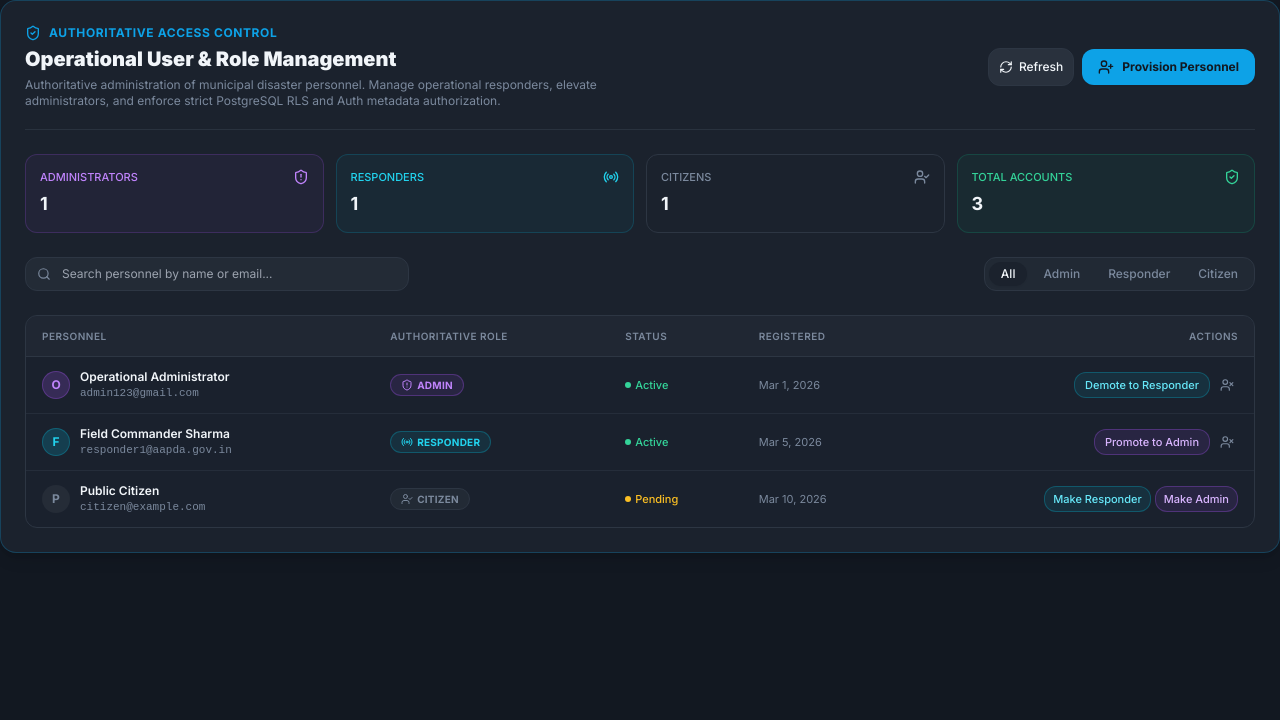
Test: OperationalUserManagement Component › User Listing & Distinction › filters users by search query and role filter chips
Expected: the text "Field Commander Sharma" is shown, left=80, top=426, right=230, bottom=442
Search by email
Type "responder1" into the field with test id "search-user-input" at (217, 274), box left=25, top=256, right=409, bottom=290
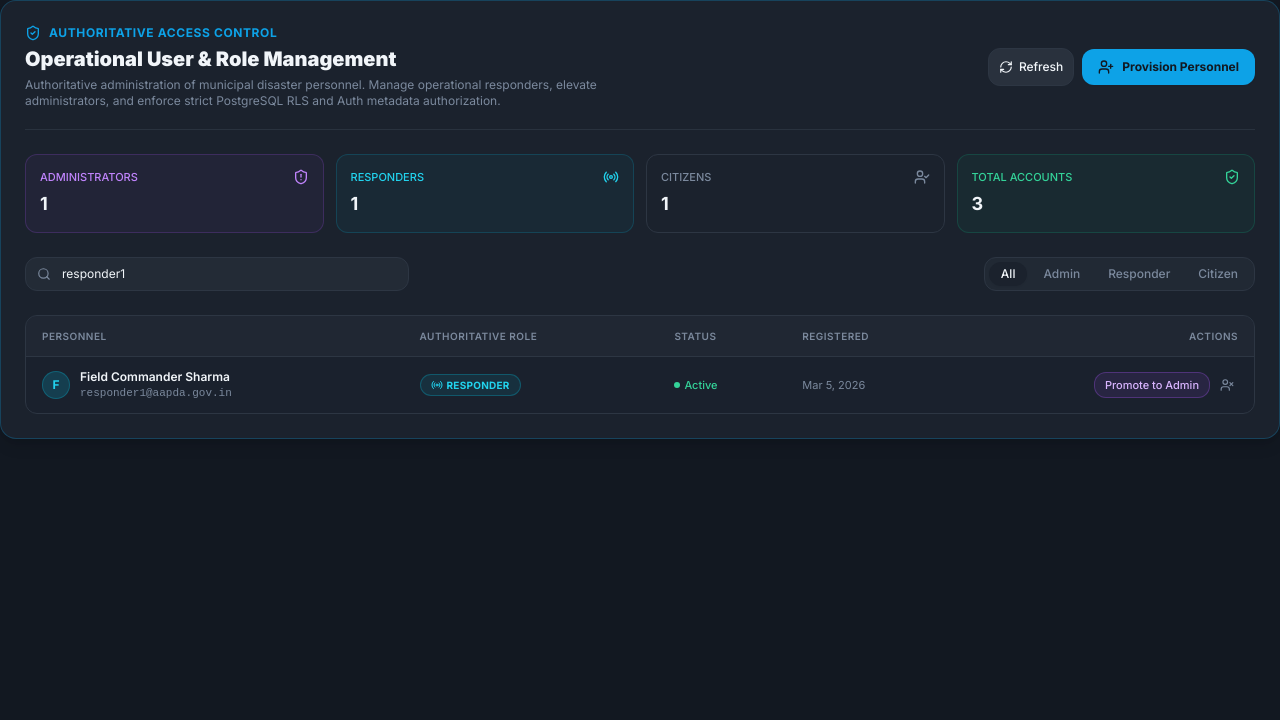
Expected: the text "responder1@aapda.gov.in" is shown, left=80, top=384, right=232, bottom=400
Expected: the text "admin123@gmail.com" is gone
Reset search
Clear the field with test id "search-user-input" at (217, 274), box left=25, top=256, right=409, bottom=290
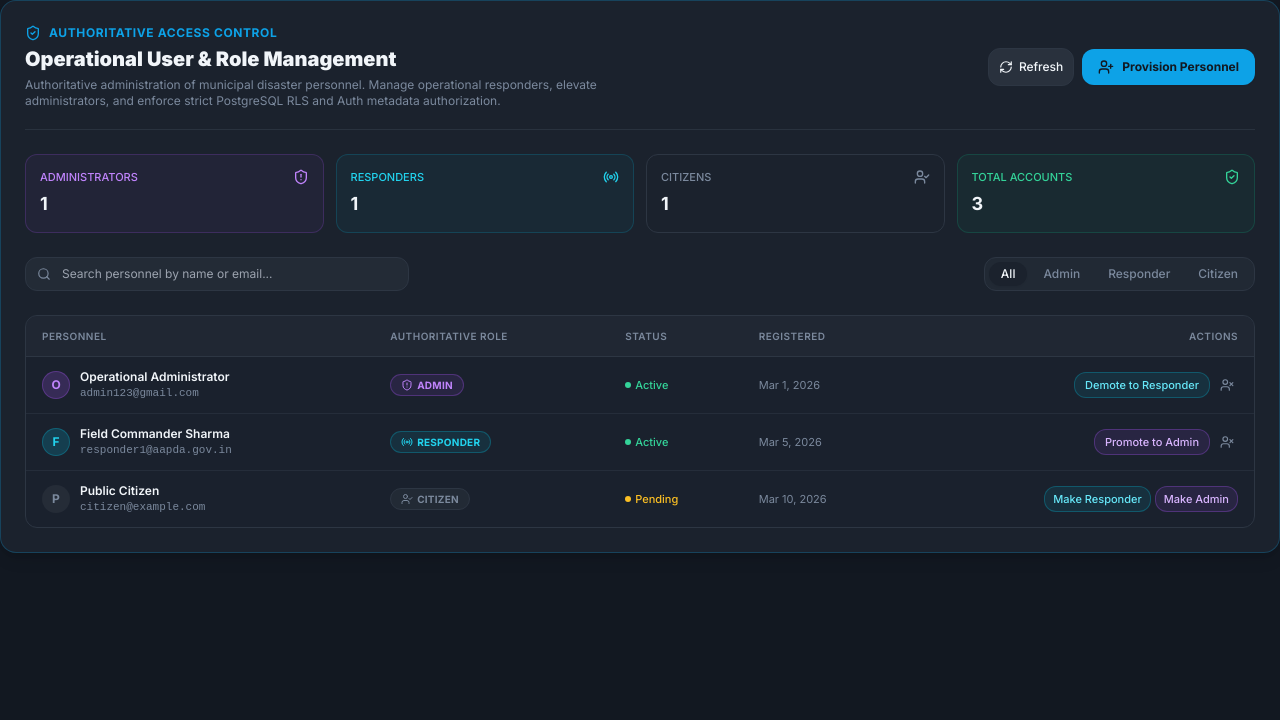
Filter by role chip
Click the button with test id "filter-admin" at (1062, 274), box left=1031, top=262, right=1092, bottom=286
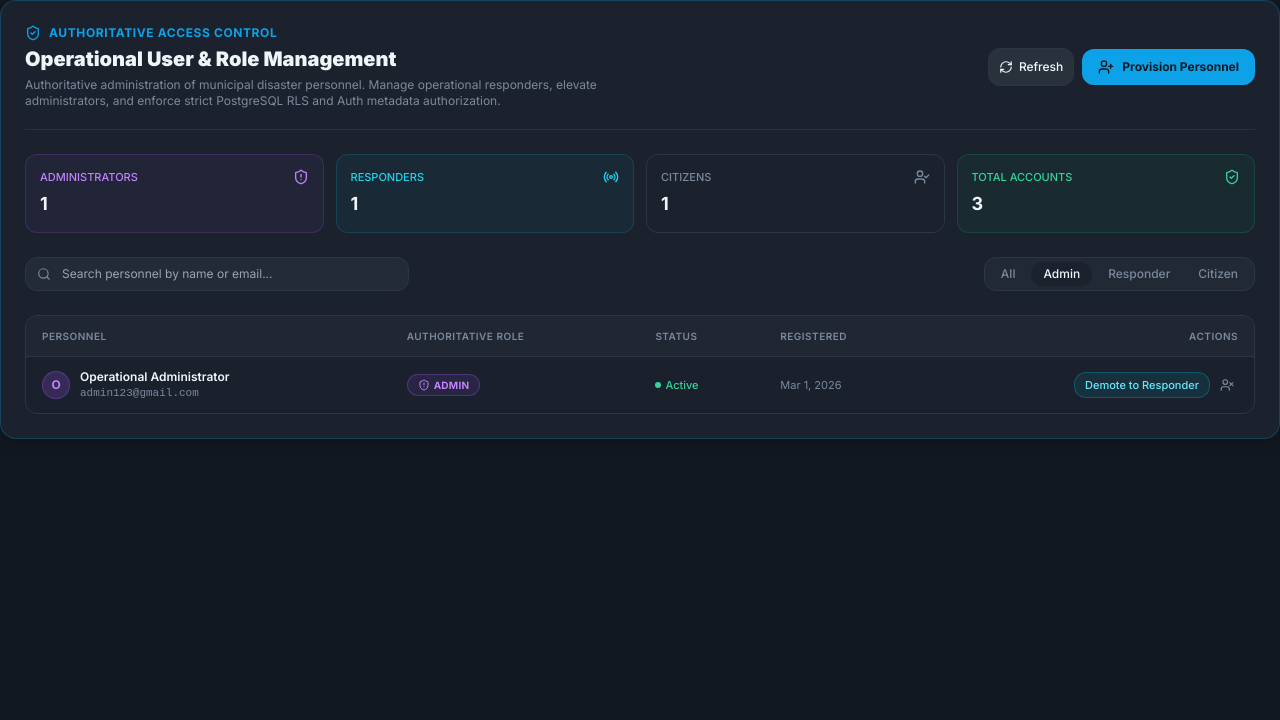
Expected: the text "admin123@gmail.com" is shown, left=80, top=386, right=199, bottom=398
Expected: the text "responder1@aapda.gov.in" is gone
